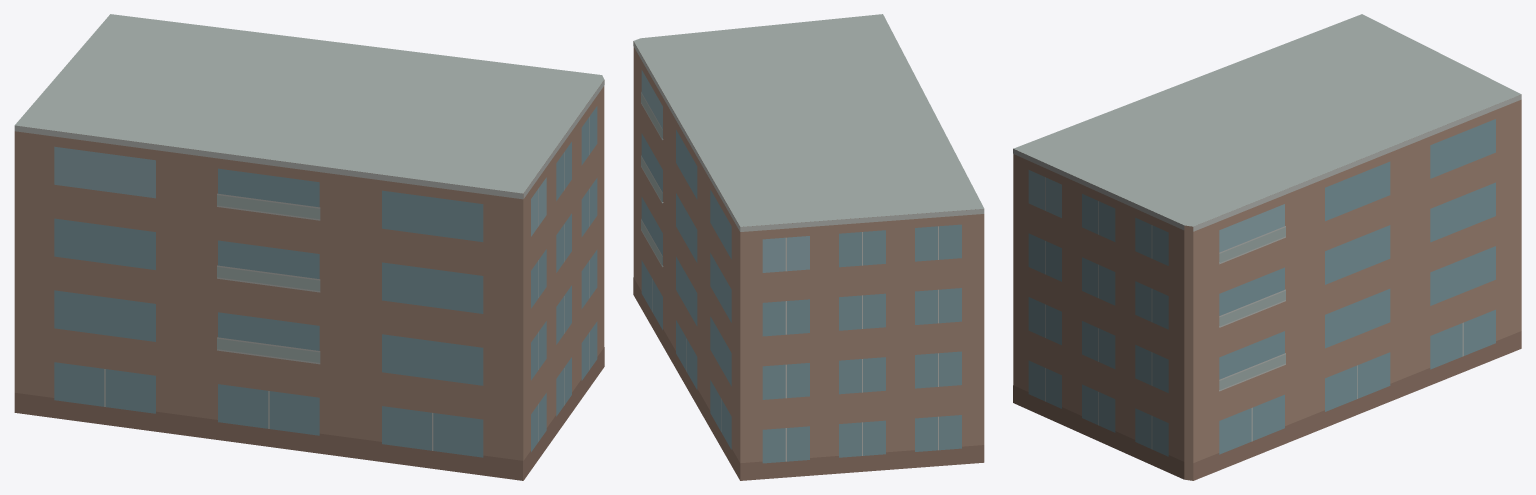
Rendered from survey-upis-32772404.glb.
3 views of the same model, side by side, from view 1: azimuth 30°, elevation 25°; view 2: azimuth 150°, elevation 25°; view 3: azimuth 270°, elevation 25° (orthographic). The views are drawn at different scales.
Parts seen in each view (by area): view 1: survey-upis-32772404.tmp; view 2: survey-upis-32772404.tmp; view 3: survey-upis-32772404.tmp.
Boxes of the visible parts, x1=… form: survey-upis-32772404.tmp: x1=14, y1=14, x2=604, y2=480; survey-upis-32772404.tmp: x1=633, y1=14, x2=984, y2=480; survey-upis-32772404.tmp: x1=1013, y1=14, x2=1521, y2=480.
Bounding box in the file's own units: 21.71 × 12.1 × 21.94.
